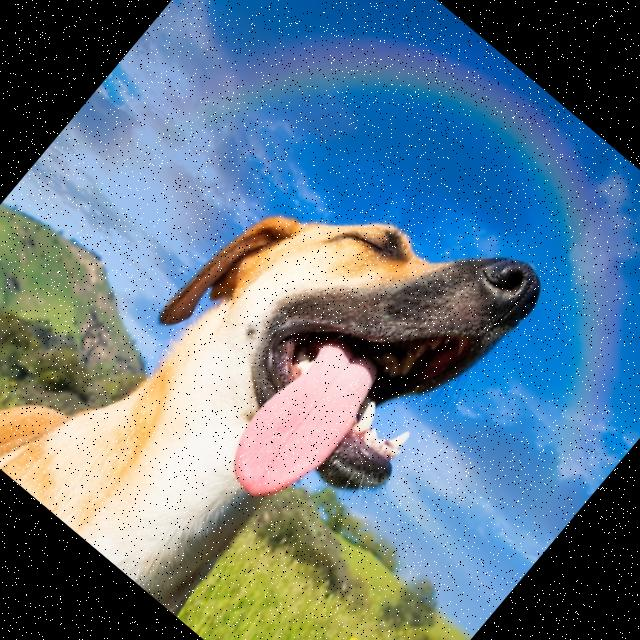Dog: (0, 44, 554, 640)
